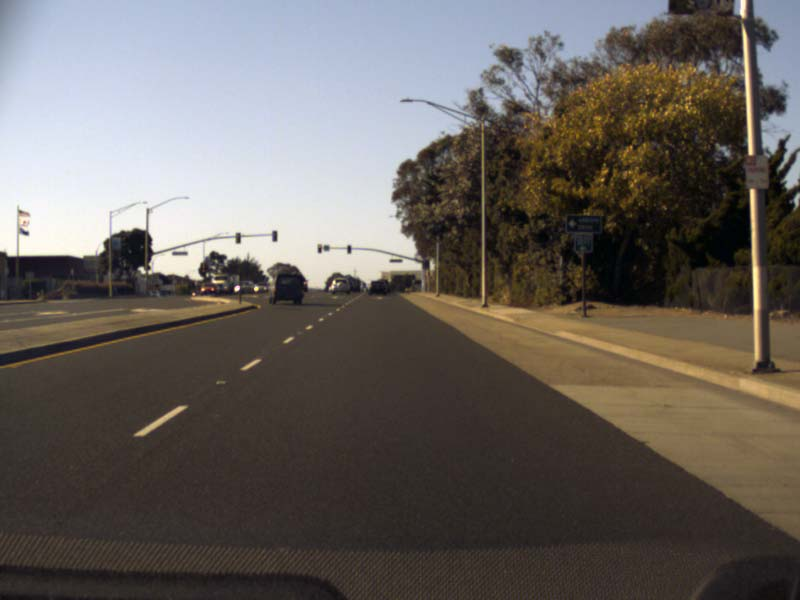Red: (317, 244, 322, 253)
